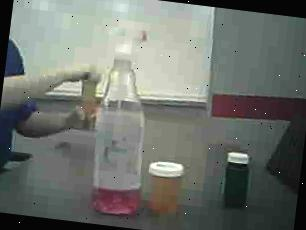Bottle A: (71, 66, 102, 122)
Bottle B: (144, 156, 186, 216)
Bottle C: (215, 140, 258, 212)
hazard: (89, 18, 162, 219)
